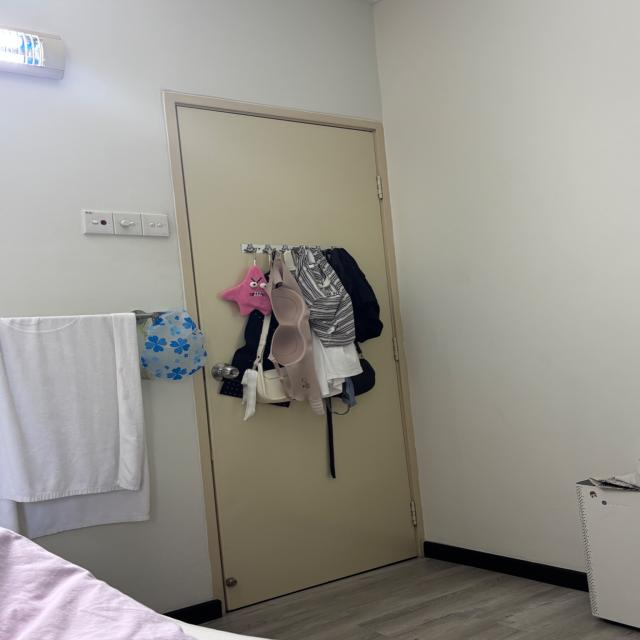door: (164, 91, 428, 616)
